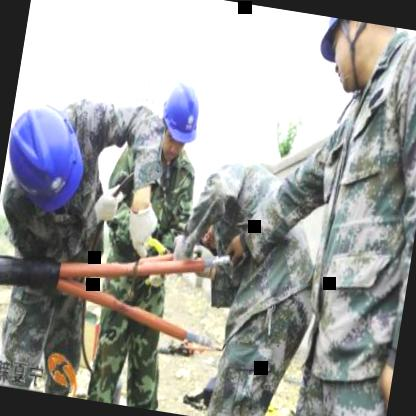helmet: (0, 89, 100, 229), (304, 14, 404, 102), (150, 72, 209, 166)
